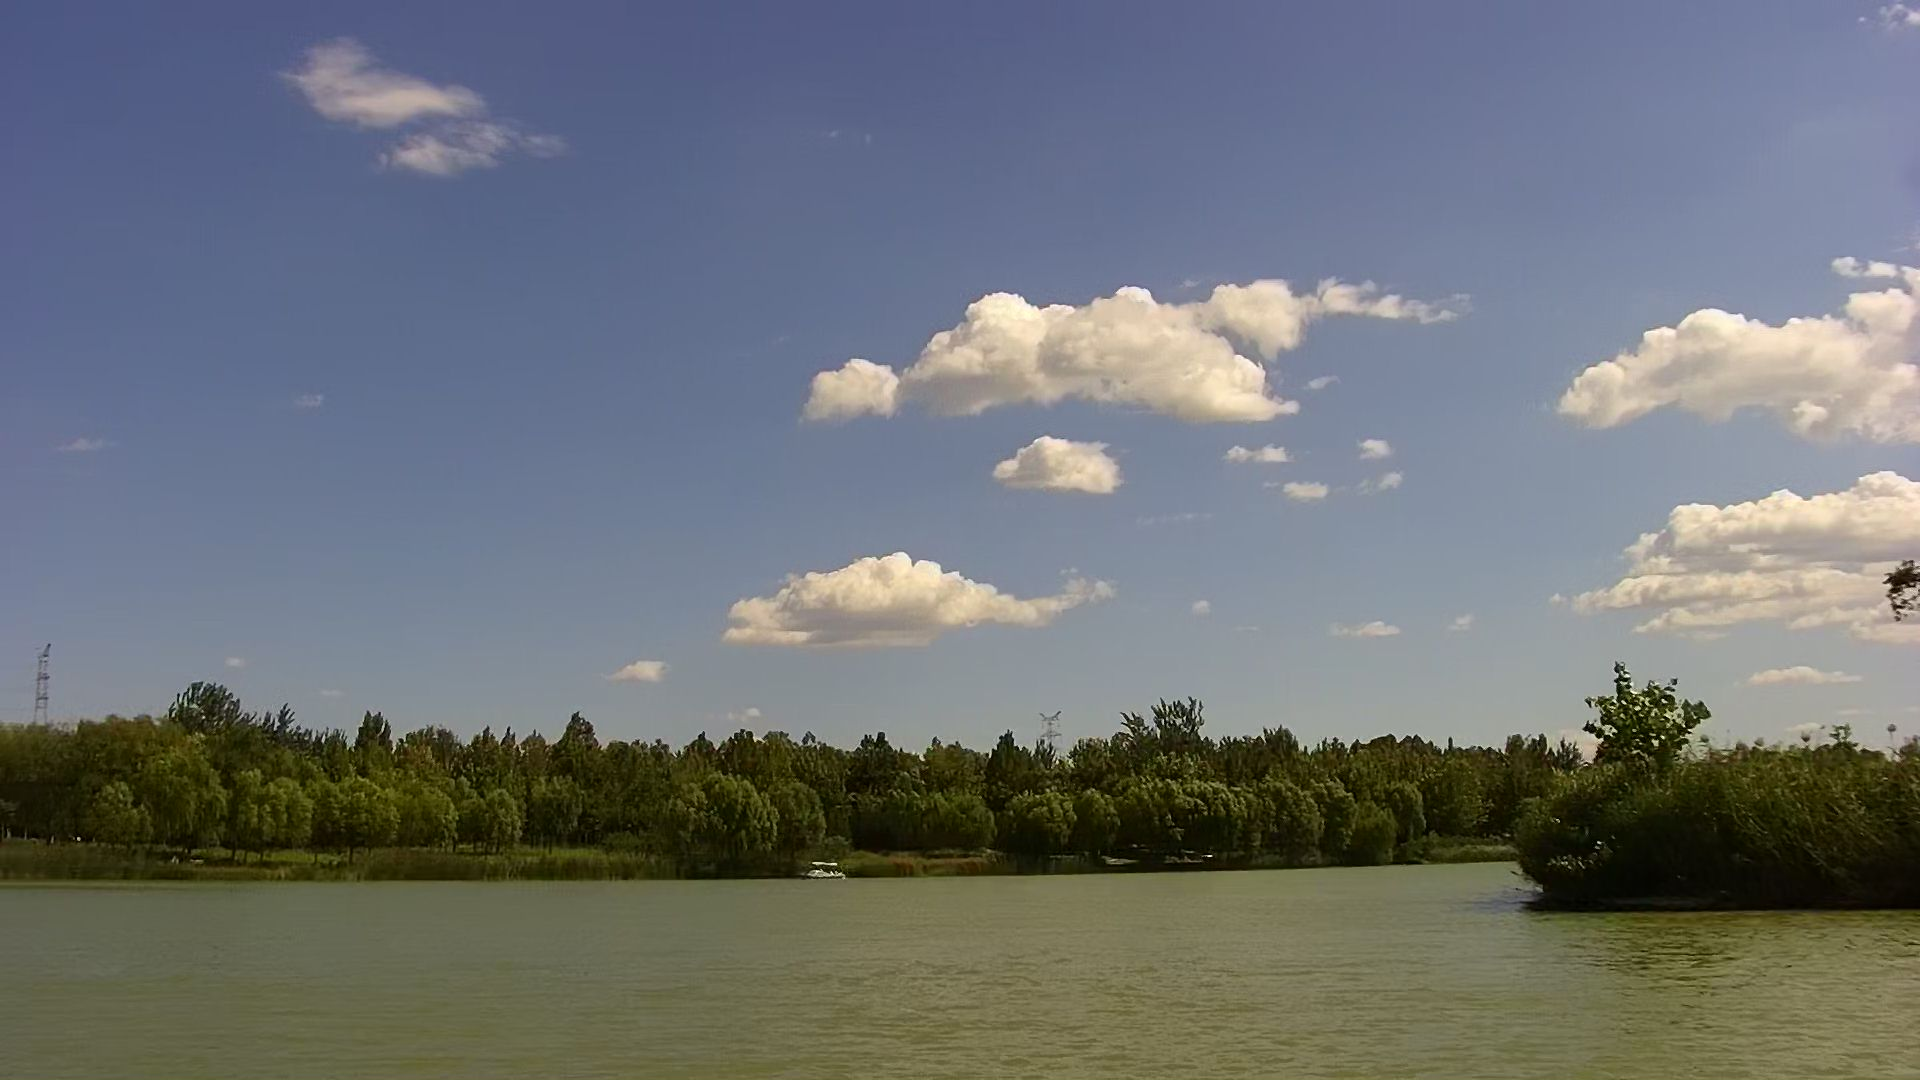boat: (796, 856, 851, 880)
